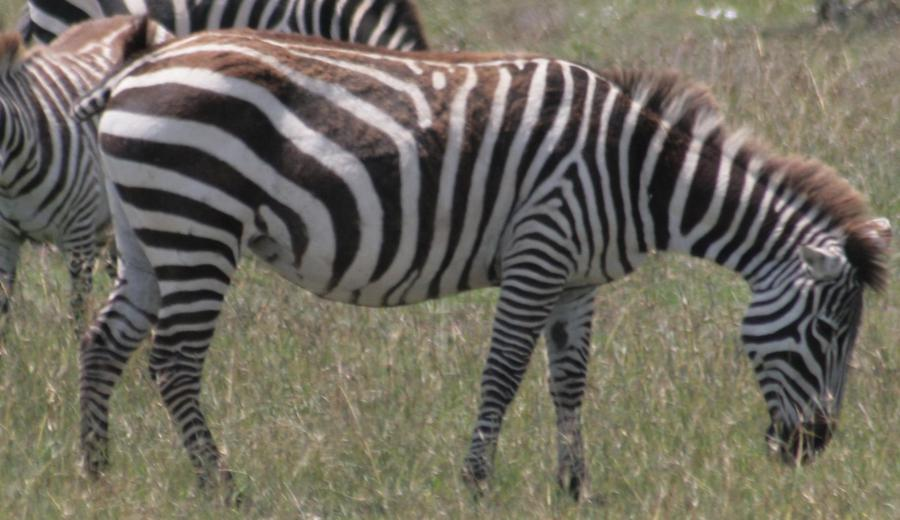zebra_plains: (105, 5, 634, 293)
